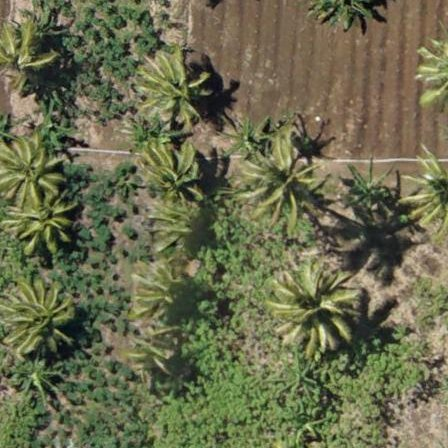palm_tree: (128, 134, 211, 222), (134, 49, 212, 132), (272, 261, 348, 342), (1, 277, 73, 357), (242, 144, 314, 220), (5, 188, 76, 263), (1, 128, 65, 202), (132, 258, 196, 326), (405, 148, 448, 231), (1, 22, 48, 95)
